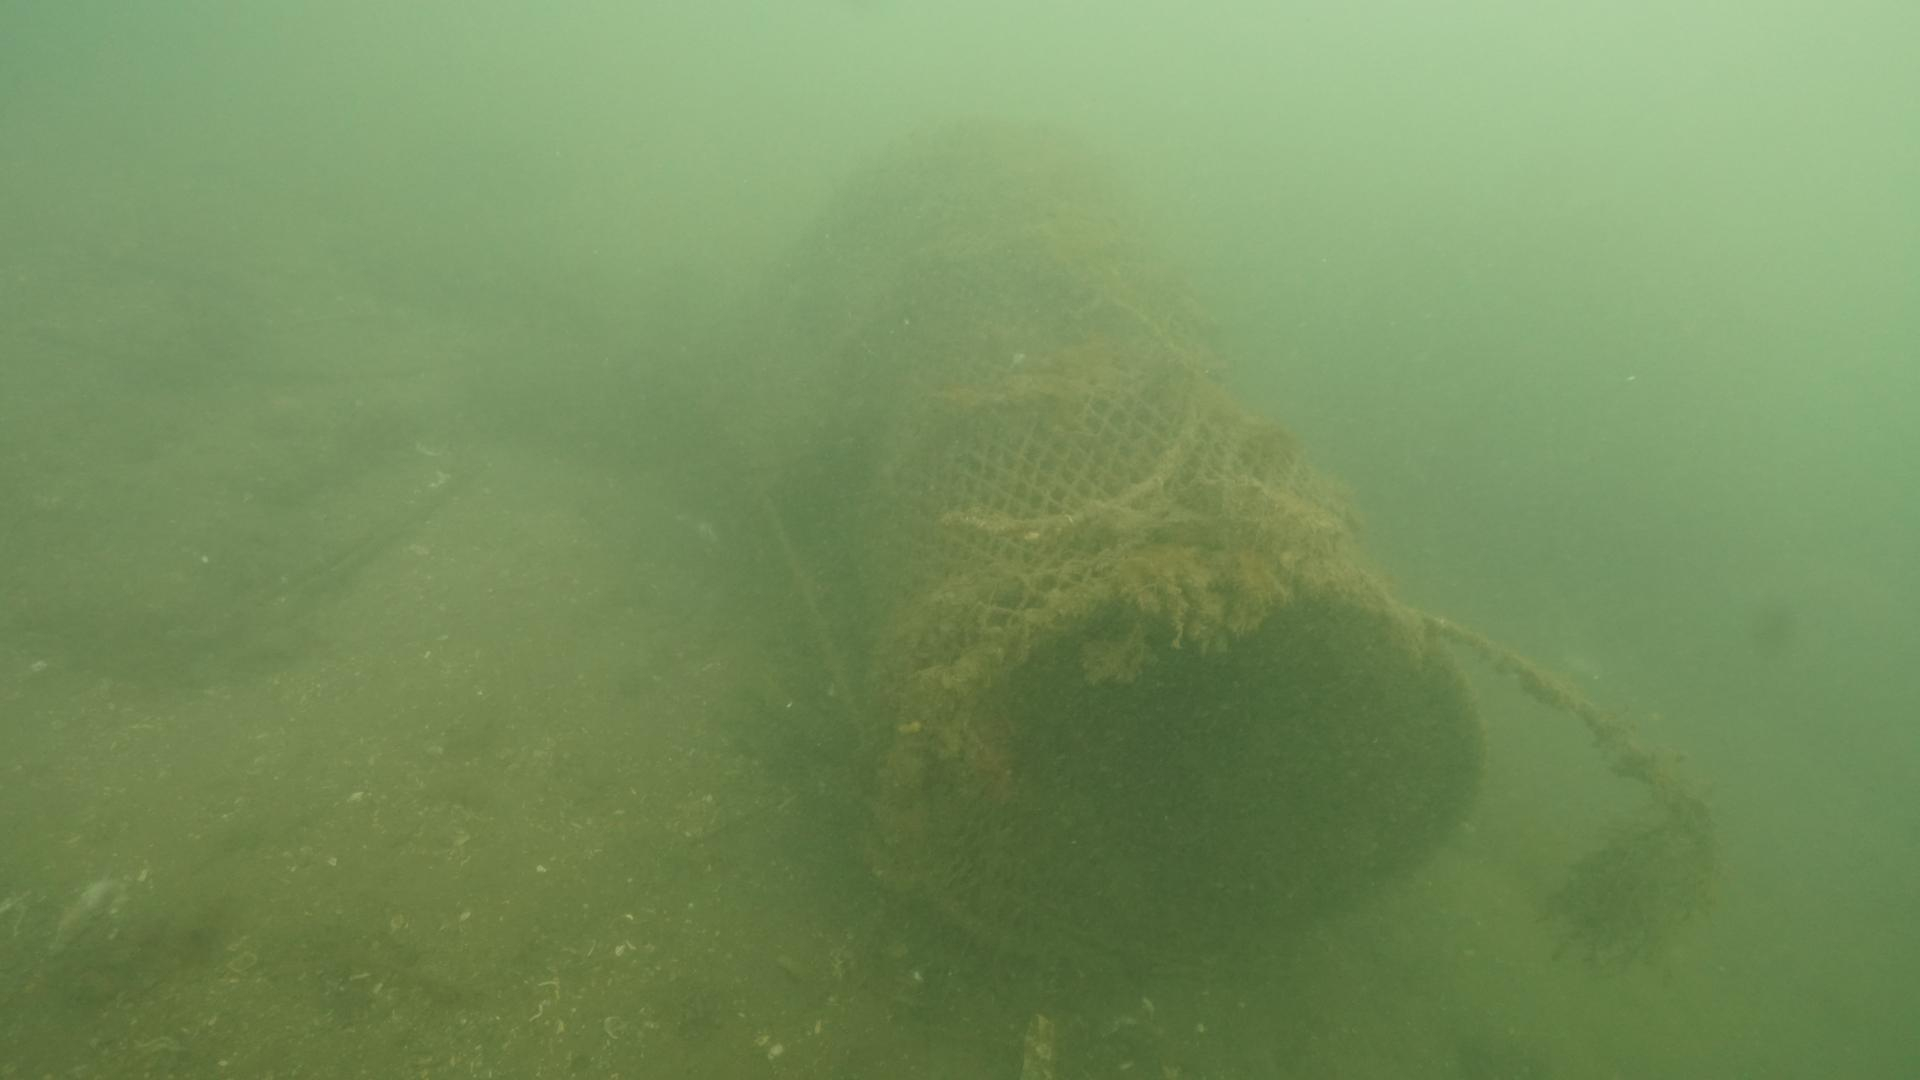spring fish trap: (686, 112, 1491, 982)
